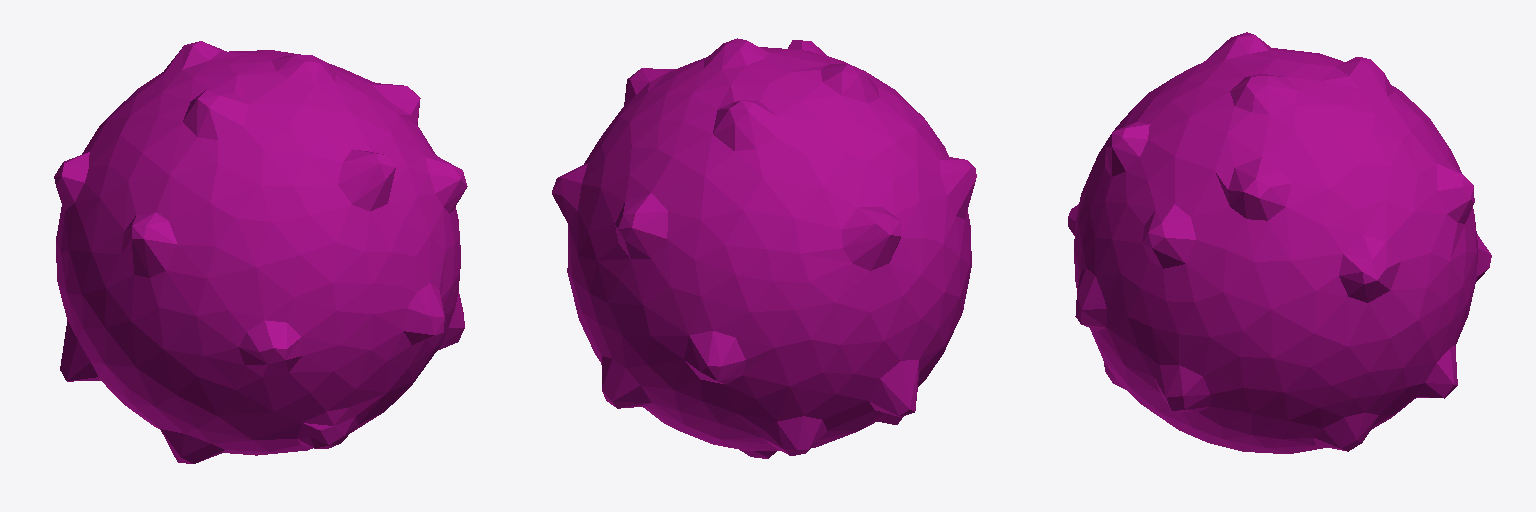
Rendered from sun_scaled.obj.
The picture shows the model from 3 angles: view 1: azimuth 30°, elevation 25°; view 2: azimuth 150°, elevation 25°; view 3: azimuth 270°, elevation 25°; orthographic projection.
Parts seen in each view (by area): view 1: Sun; view 2: Sun; view 3: Sun.
Boxes of the visible parts, box(x1,y1,x2,y2) form: Sun: box(54, 41, 467, 463); Sun: box(552, 38, 976, 458); Sun: box(1068, 32, 1491, 453).
Size of the model in its own units: 9.58 by 10.25 by 10.04.